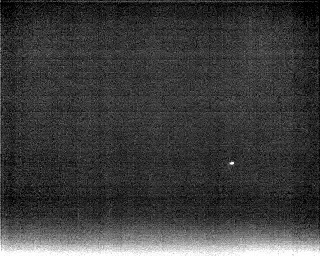BIRD: (227, 158, 236, 169)
